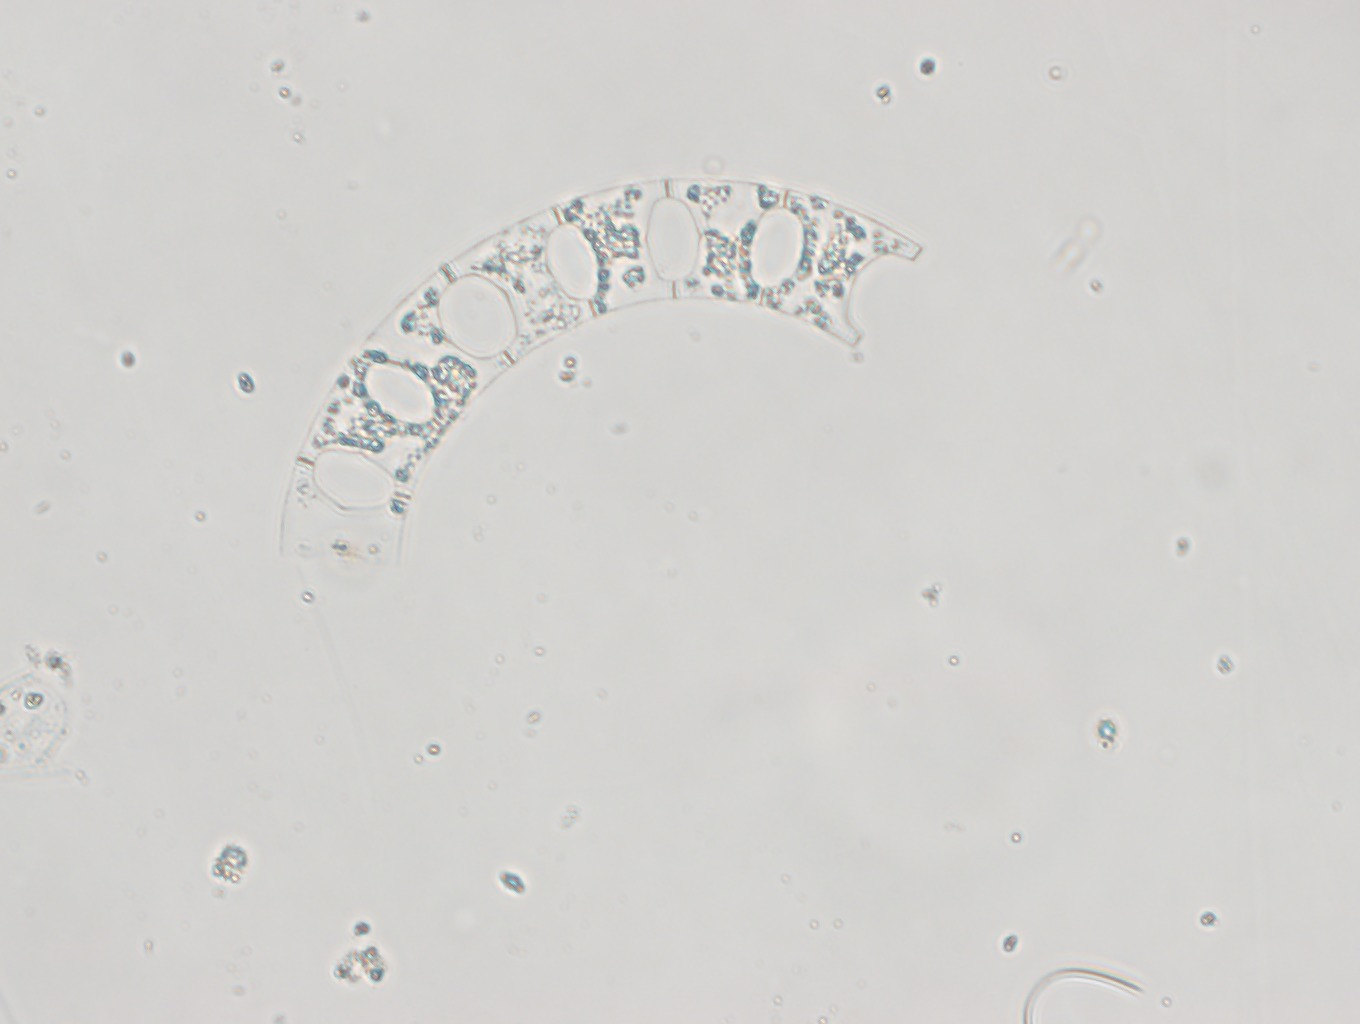eucampia: (277, 173, 925, 589)
